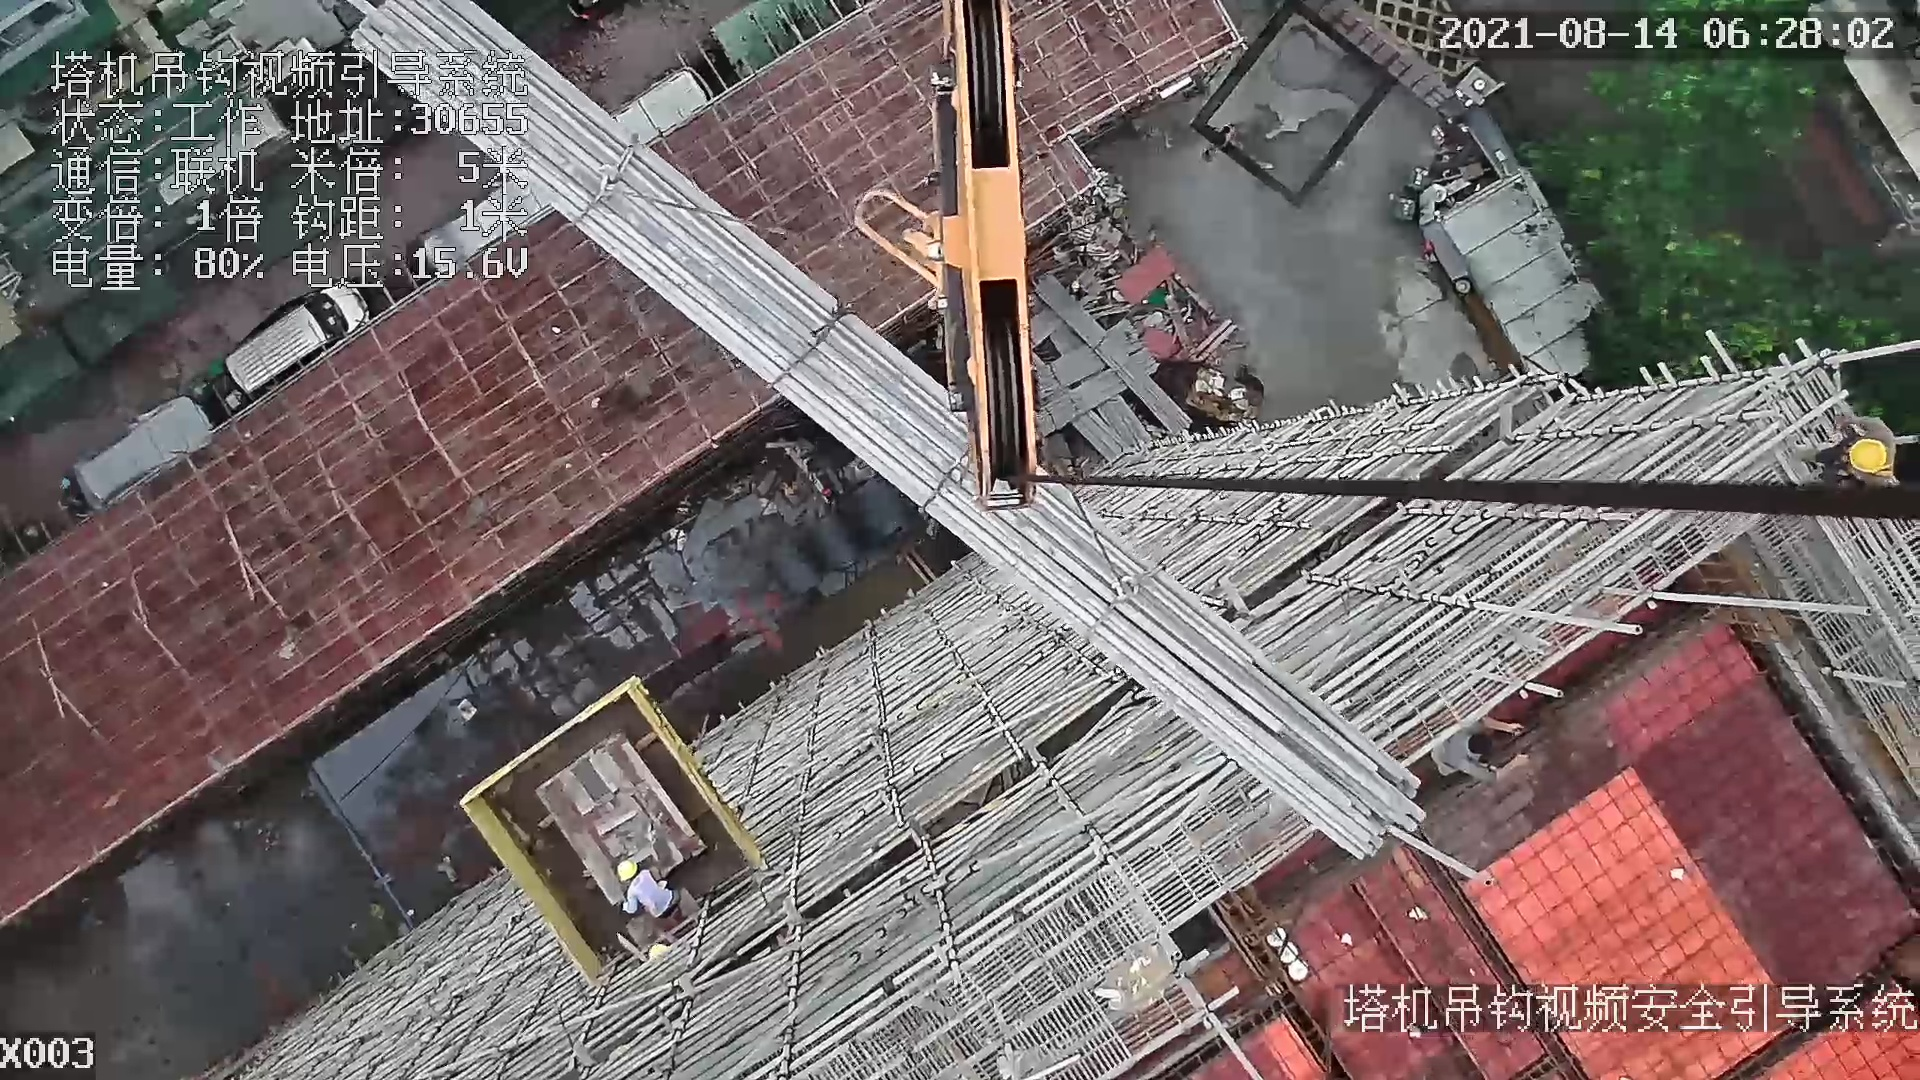helmet: (614, 861, 648, 887)
hook: (935, 1, 1040, 514)
person: (1805, 412, 1903, 492), (616, 859, 705, 925)
